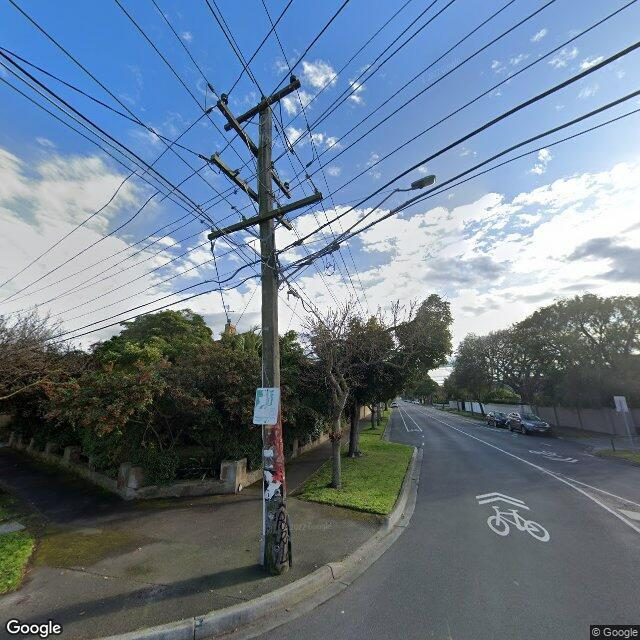crossarm: (217, 99, 292, 200), (211, 152, 291, 230), (208, 192, 323, 240), (224, 80, 300, 131)
streetlight: (278, 174, 437, 289)
timber-pole: (260, 97, 292, 575)
